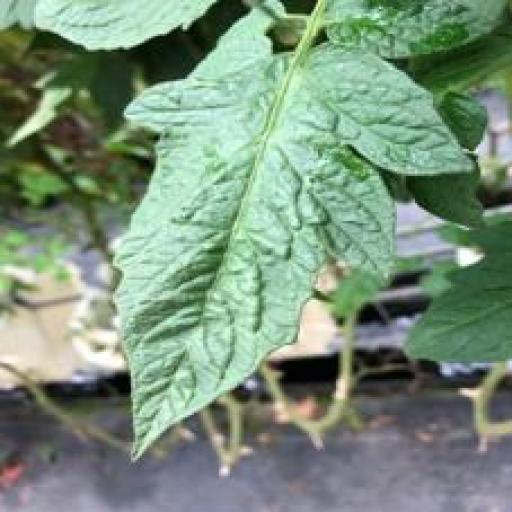Healthy: (102, 39, 475, 463)
